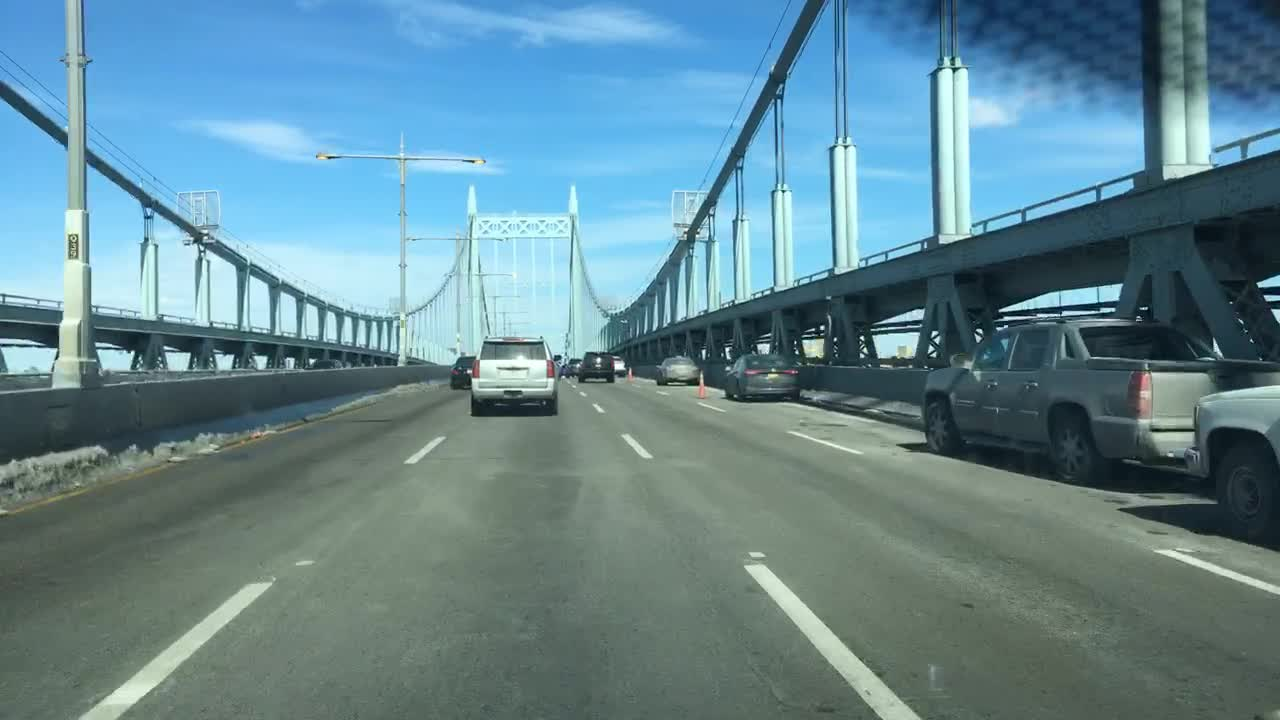car: (1184, 383, 1278, 541), (467, 334, 562, 416), (721, 350, 806, 405), (652, 356, 701, 386), (578, 356, 617, 385), (450, 350, 476, 390), (611, 354, 627, 374), (565, 356, 581, 375)
truck: (917, 314, 1278, 489)
